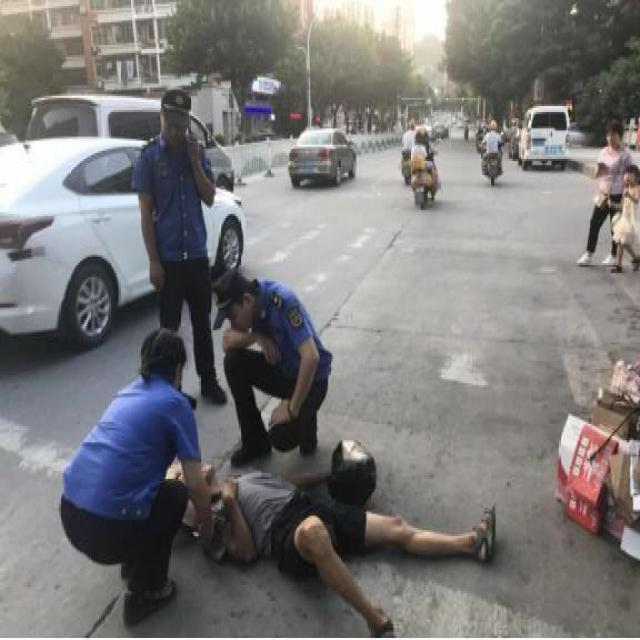fall: (180, 434, 507, 626)
